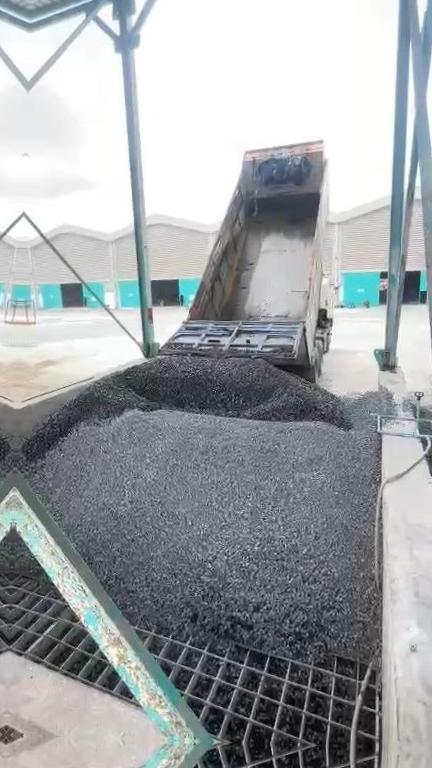gravel: (25, 394, 379, 659), (16, 356, 392, 461), (12, 530, 56, 590), (421, 397, 432, 447), (428, 439, 432, 498)
sand: (18, 357, 57, 398)
